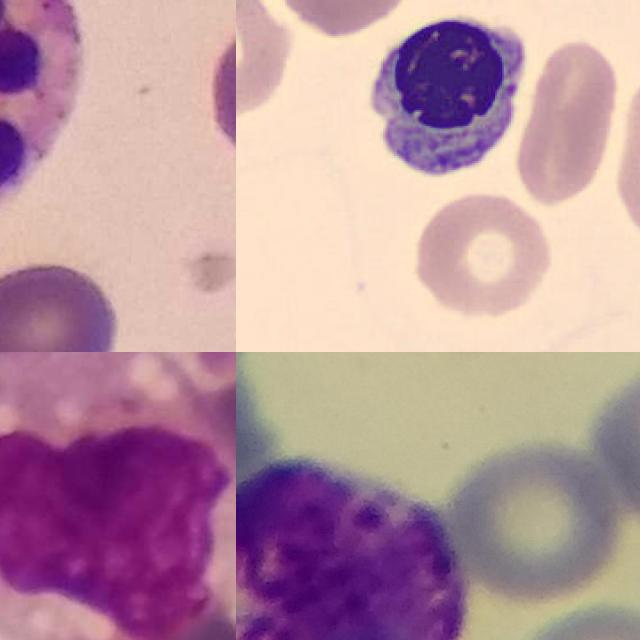Basophil: (236, 457, 463, 640)
Lymphocyte: (353, 4, 534, 186)
Monocyte: (0, 352, 236, 640)
Neutrophil: (0, 0, 81, 230)
RBC: (408, 188, 555, 324), (507, 36, 623, 207), (236, 0, 299, 129), (609, 67, 640, 249)
